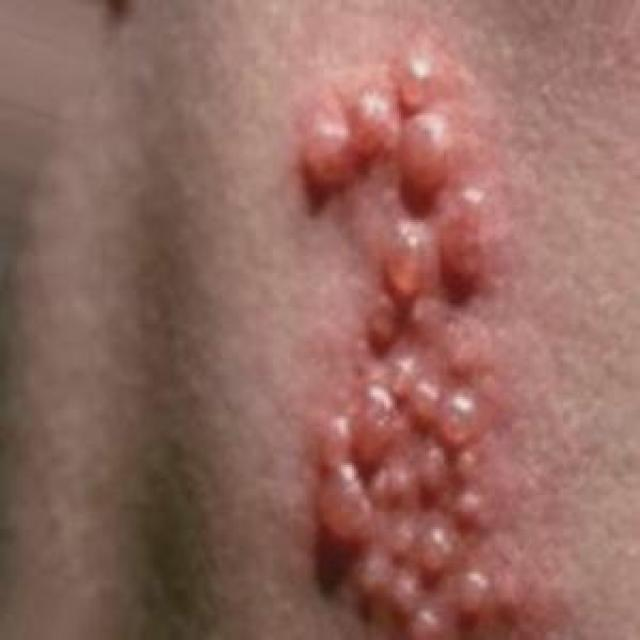Shingles: (292, 36, 518, 636)
